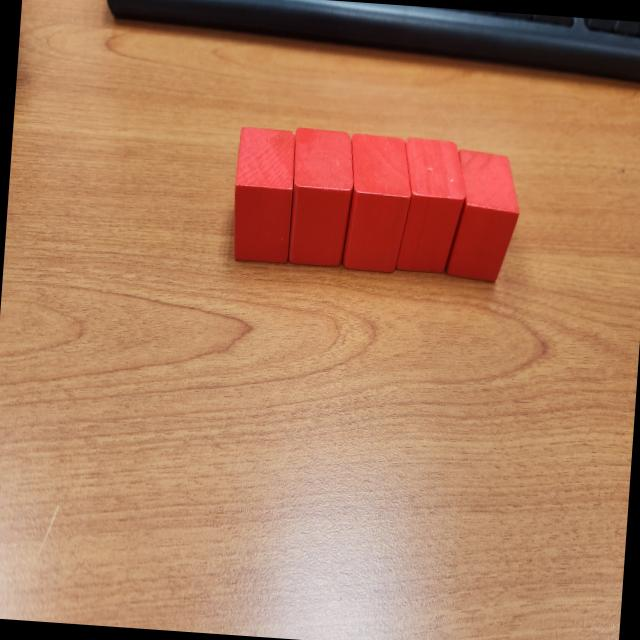red: (340, 131, 416, 273), (444, 148, 524, 282), (394, 135, 470, 274), (284, 126, 357, 267), (228, 126, 298, 264)
